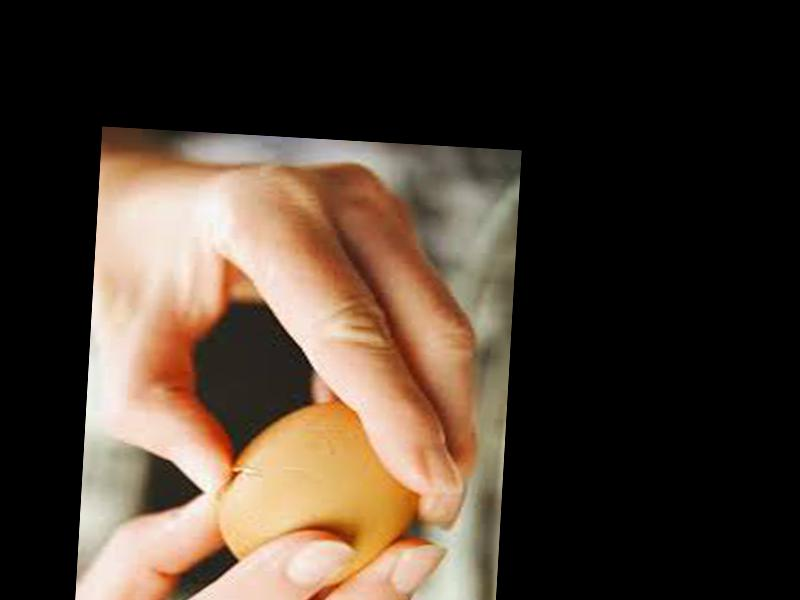Eggs: (211, 396, 427, 593)
